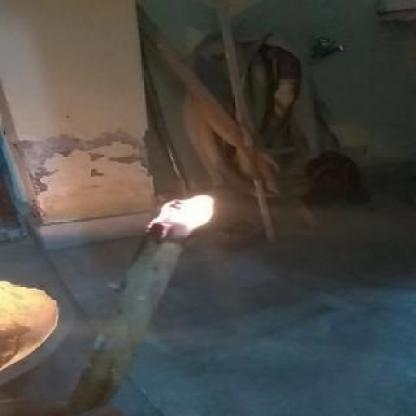Fire: (149, 190, 220, 249)
